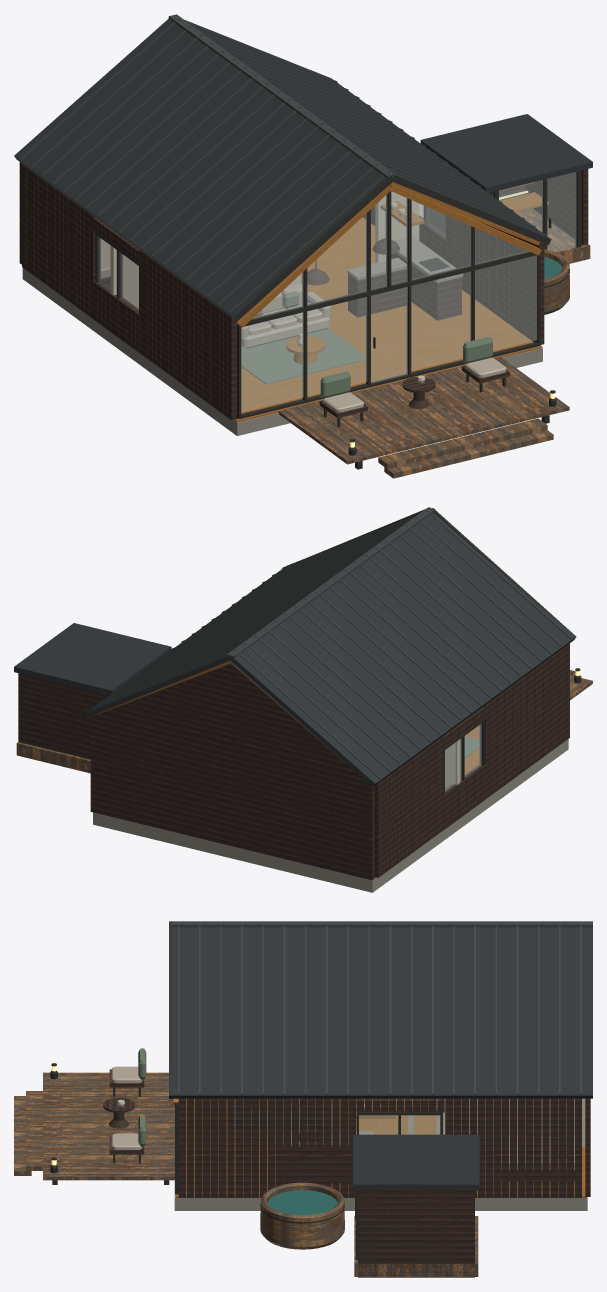
Rendered from barnhouse-56.glb.
3 views of the same model, one above another, from view 1: azimuth 30°, elevation 25°; view 2: azimuth 150°, elevation 25°; view 3: azimuth 270°, elevation 25° (orthographic). The views are drawn at different scales.
Visible parts, largest first — view 1: Roof, Glass, BlackCladding, Deck, Oak, Seam, Frame, Cladding, Concrete, Sage, Linen, Plaster; view 2: Roof, Cladding, BlackCladding, Seam, Concrete, Frame, Deck, Glass, Oak, Plaster; view 3: Roof, BlackCladding, Deck, Seam, Oak, Concrete, Frame, Cladding, Glass, Linen, Water, Plaster (+1 smaller).
Part boxes in pixels (x1,y1,x2,y2): Roof: [14, 18, 592, 320]; Glass: [98, 172, 576, 411]; BlackCladding: [22, 164, 588, 420]; Deck: [278, 208, 590, 478]; Oak: [234, 182, 548, 422]; Seam: [20, 14, 546, 312]; Frame: [95, 170, 581, 469]; Cladding: [19, 162, 525, 418]; Concrete: [22, 236, 542, 435]; Sage: [101, 238, 492, 398]; Linen: [100, 239, 506, 412]; Plaster: [110, 191, 419, 308]; Roof: [14, 512, 576, 786]; Cladding: [20, 662, 374, 880]; BlackCladding: [18, 643, 569, 877]; Seam: [91, 507, 572, 778]; Concrete: [93, 739, 568, 892]; Frame: [312, 507, 587, 794]; Deck: [16, 670, 592, 773]; Glass: [445, 724, 481, 791]; Oak: [95, 660, 479, 878]; Plaster: [445, 739, 460, 788]; Roof: [169, 927, 592, 1190]; BlackCladding: [178, 1098, 581, 1277]; Deck: [14, 1072, 478, 1276]; Seam: [169, 921, 592, 1094]; Oak: [173, 1098, 586, 1197]; Concrete: [174, 1105, 587, 1210]; Frame: [48, 921, 442, 1260]; Cladding: [103, 1069, 590, 1196]; Glass: [359, 1115, 439, 1134]; Linen: [111, 1066, 574, 1170]; Water: [267, 1190, 337, 1215]; Plaster: [408, 1098, 585, 1147].
Bounding box in the file's own units: 11.44 × 5.44 × 13.12.
17 materials, 4 textured.
